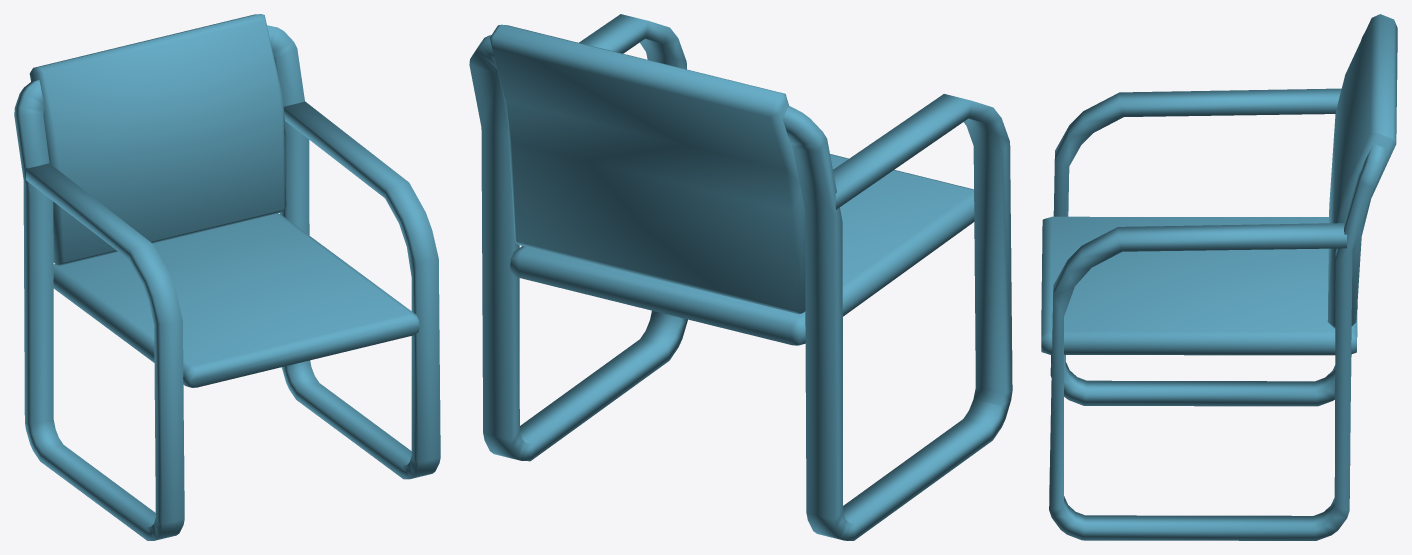
Rendered from SM_ChairStudy.fbx.
3 renders of one model, left to right at view 1: azimuth 30°, elevation 25°; view 2: azimuth 150°, elevation 25°; view 3: azimuth 270°, elevation 25°, orthographic. The views are drawn at different scales.
Visible parts, largest first — view 1: chair seat.006; view 2: chair seat.006; view 3: chair seat.006.
Part boxes in pixels (bbox=[...]): chair seat.006: bbox=[14, 14, 440, 540]; chair seat.006: bbox=[469, 14, 1012, 540]; chair seat.006: bbox=[1041, 14, 1397, 540].
Bounding box in the file's own units: 63.71 × 80.04 × 65.38.
